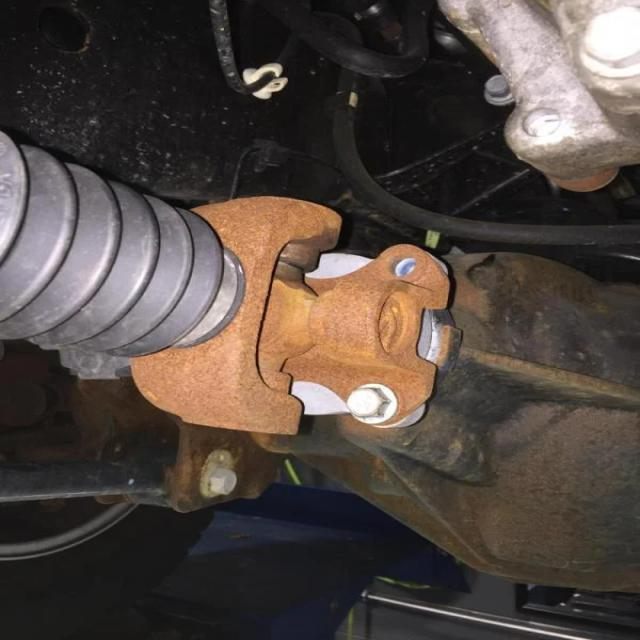Missing bolt: (516, 108, 567, 143), (388, 257, 422, 278)
Regular bolt: (346, 386, 399, 423), (484, 74, 521, 109)
